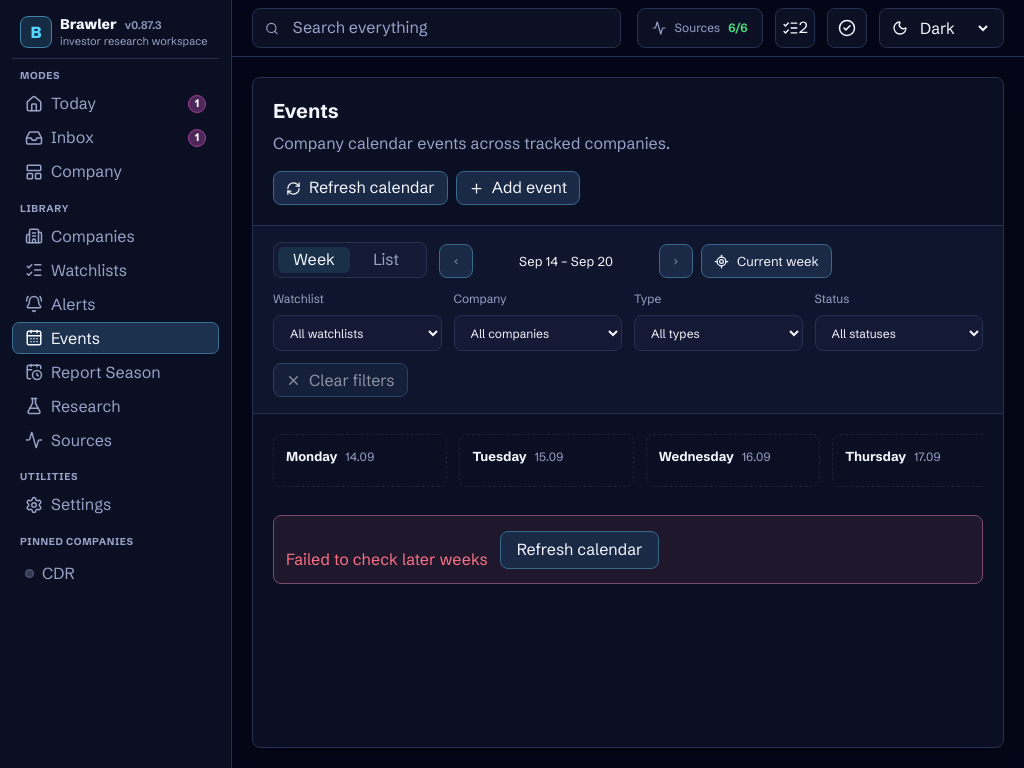
Events empty states (F4b contract § Events, State matrix) › Empty (lookup failed, then retried): `Refresh calendar` re-runs the lookup and recovers to the jump invitation
Click the button "Refresh calendar" next to "Failed to check later weeks". click: x=580, y=550
box: [500, 531, 660, 569]
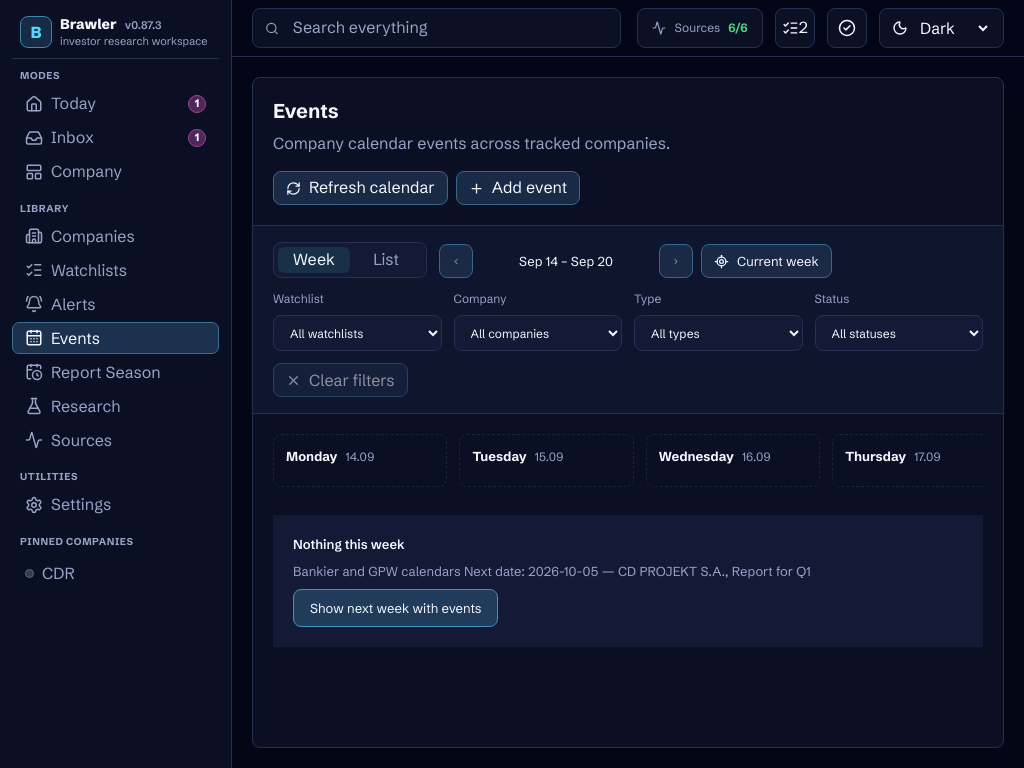
Check: the button "Show next week with events" is shown, box [293, 589, 498, 627]
